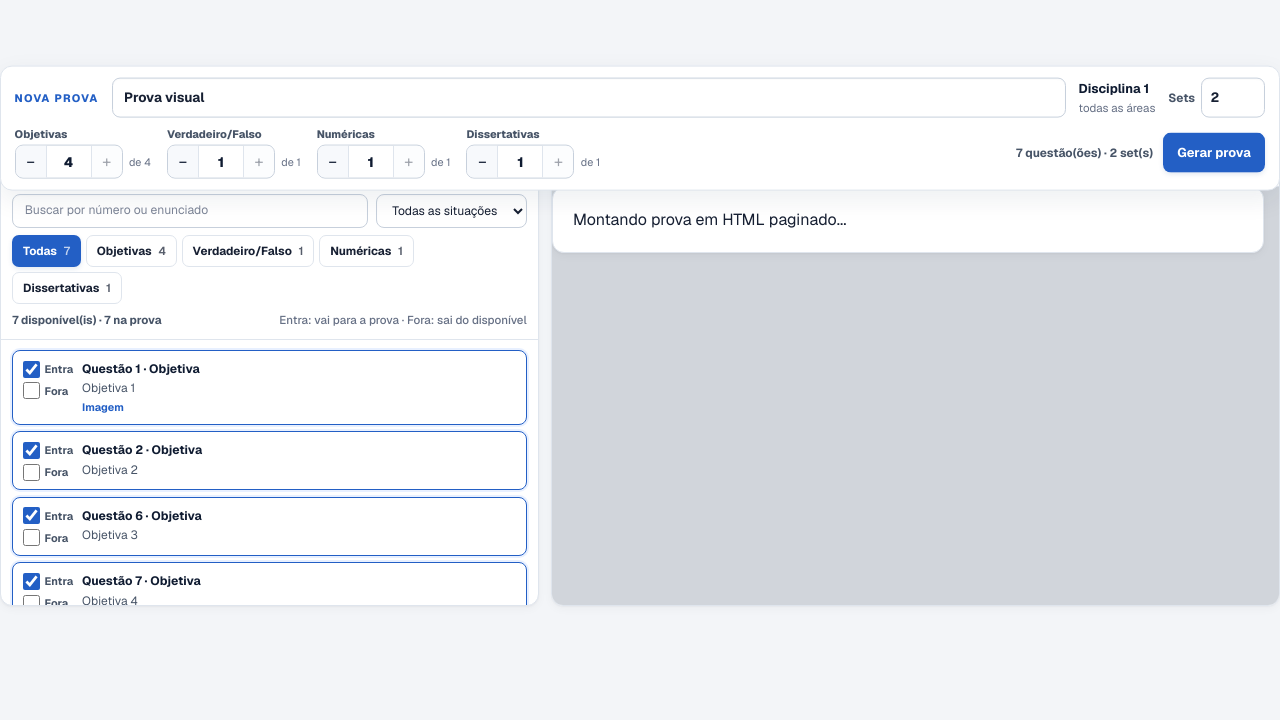
Scenario: VisualExamBuilder › keeps questions marked out of this exam unavailable to quantity changes
Expected: the number field named "Quantidade de Objetivas" holds "4", 46,146 -> 92,178
Click the checkbox named "Deixar questão 2 fora desta prova" at (31, 472), box 23,464 -> 40,481
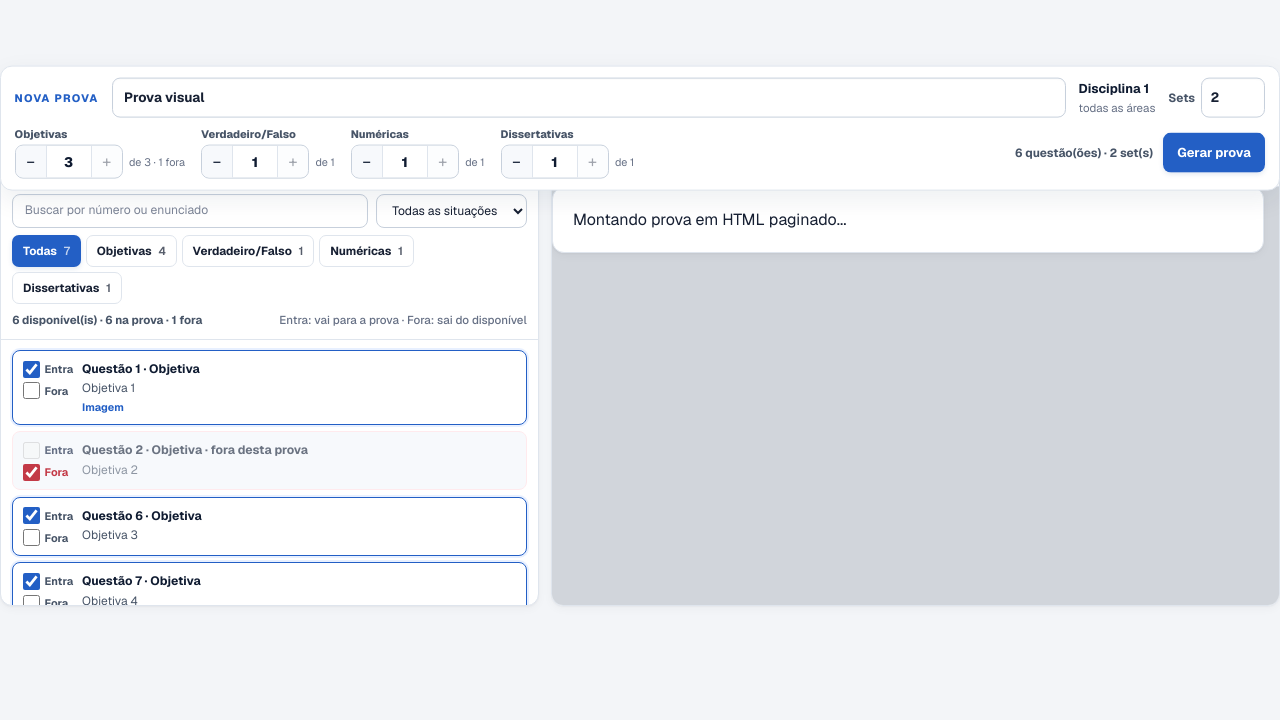
Expected: the checkbox named "Selecionar questão 2" is not checked, 23,442 -> 40,459
Expected: the checkbox named "Selecionar questão 2" is disabled, 23,442 -> 40,459
Expected: the number field named "Quantidade de Objetivas" holds "3"
Replace the text in the number field named "Quantidade de Objetivas" with "0" at (69, 162), box 46,146 -> 92,178
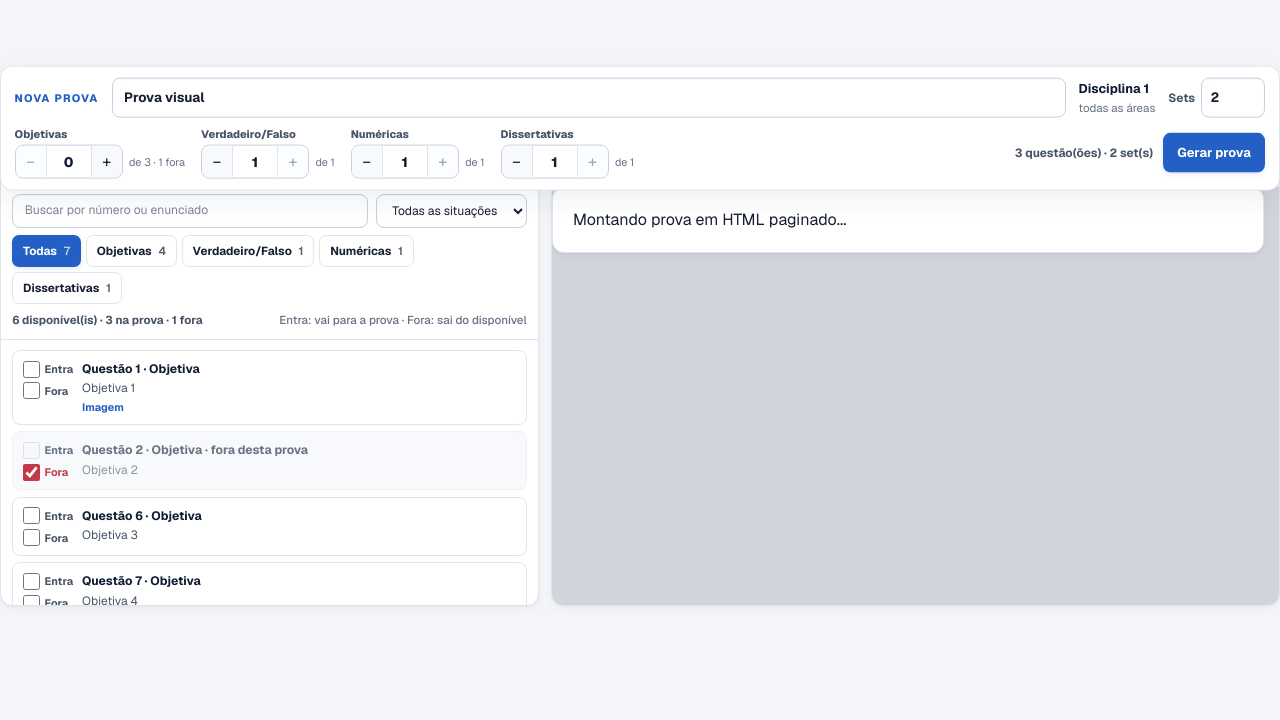
Replace the text in the number field named "Quantidade de Objetivas" with "4" at (69, 162), box 46,146 -> 92,178
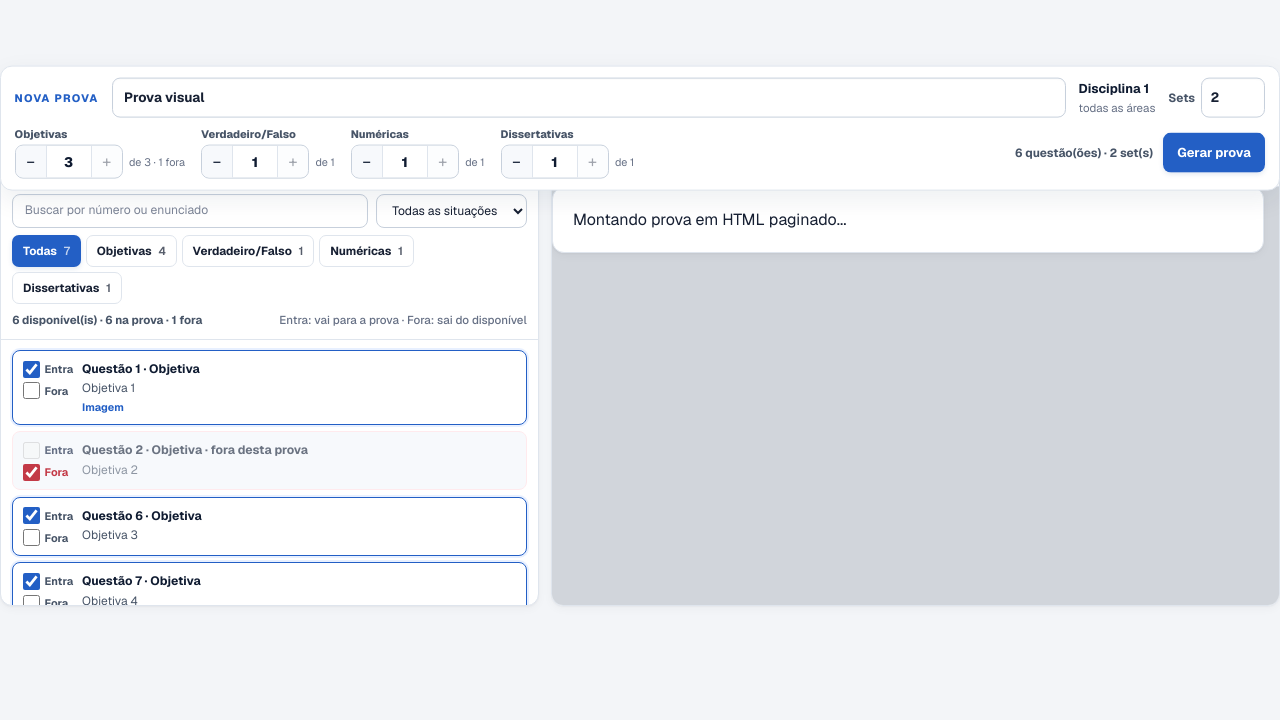
Expected: the number field named "Quantidade de Objetivas" holds "3", 46,146 -> 92,178
Click the checkbox named "Deixar questão 2 fora desta prova" at (31, 472), box 23,464 -> 40,481
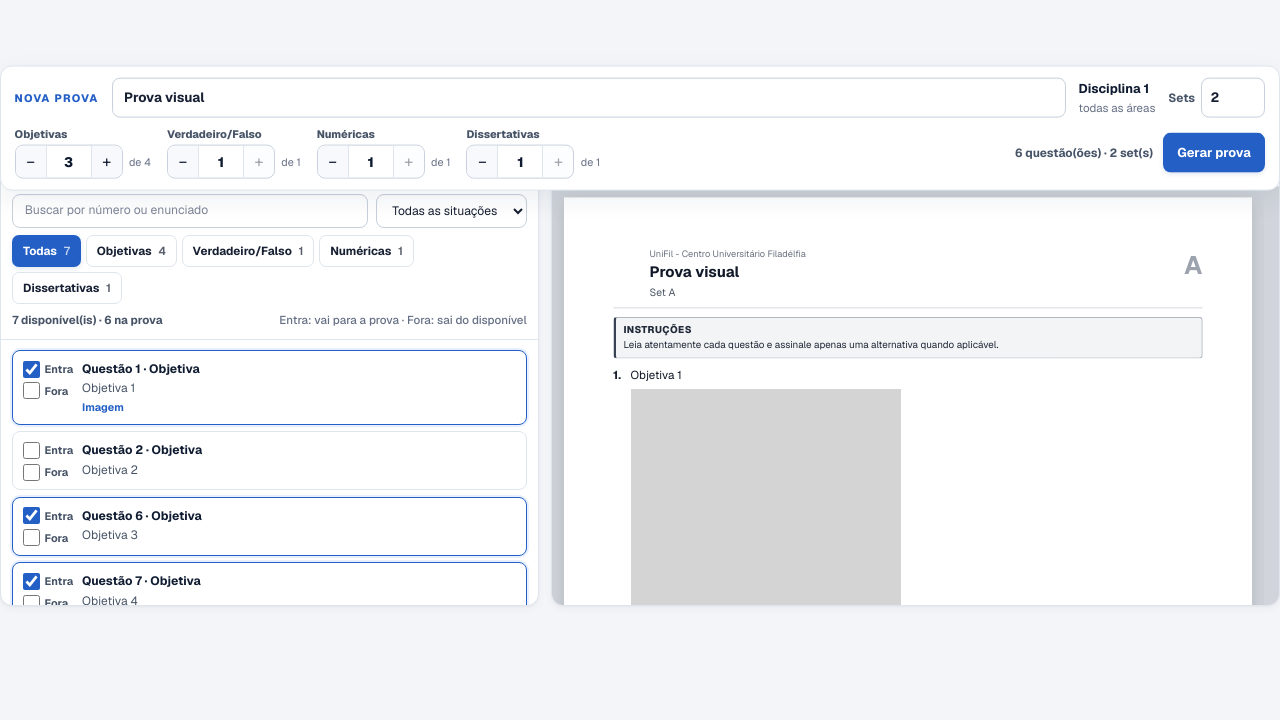
Expected: the checkbox named "Selecionar questão 2" is not checked, 23,442 -> 40,459
Expected: the checkbox named "Selecionar questão 2" is enabled, 23,442 -> 40,459
